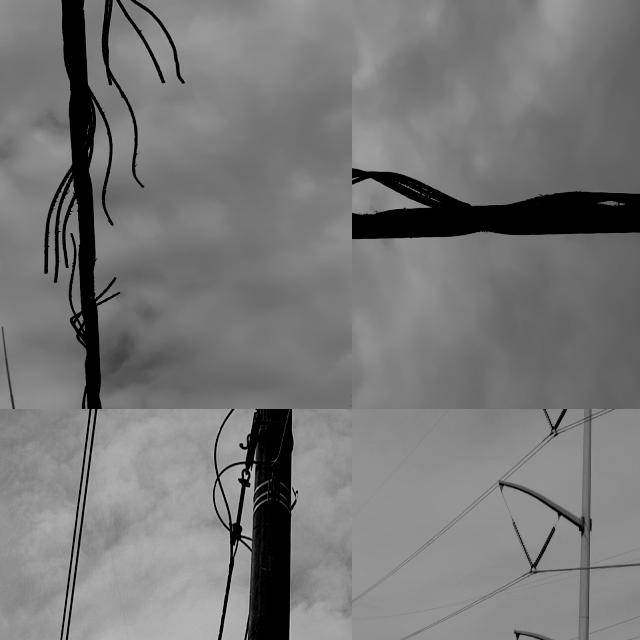正常绝缘子: (505, 501, 542, 581), (524, 518, 562, 587), (545, 409, 570, 445), (540, 409, 560, 443)
电缆破损: (8, 0, 192, 353), (352, 146, 640, 246)
